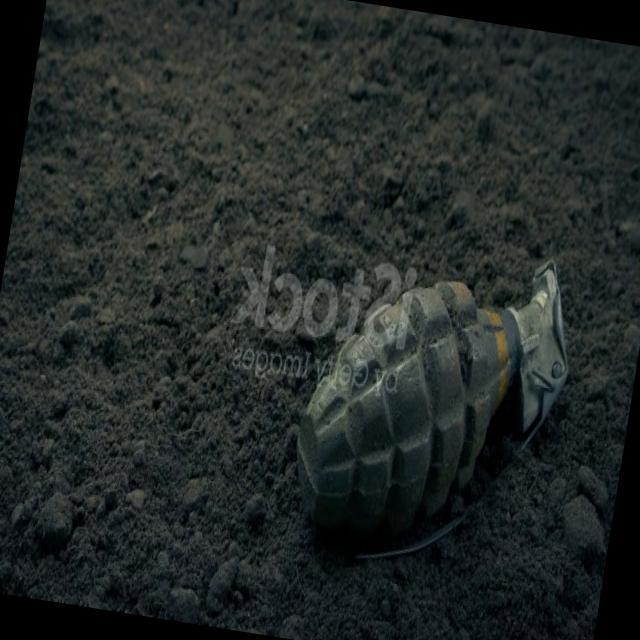grenade: (274, 226, 588, 590)
